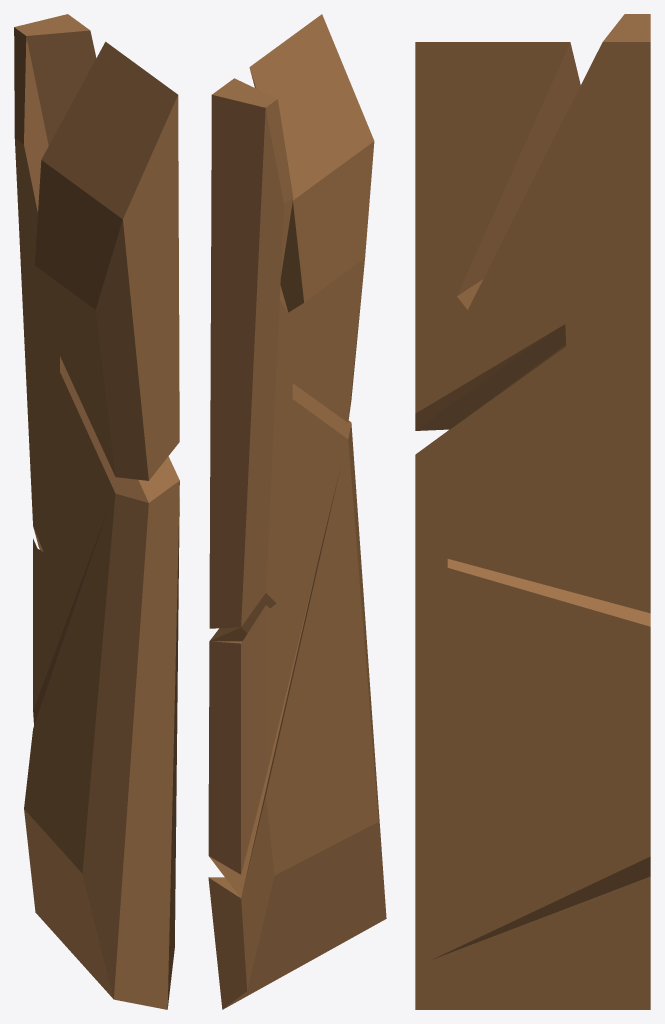
File: MadeiraLowPoly03.fbx
3 renders of one model, left to right at view 1: azimuth 30°, elevation 25°; view 2: azimuth 150°, elevation 25°; view 3: azimuth 270°, elevation 25°, orthographic. The views are drawn at different scales.
Parts seen in each view (by area): view 1: Cube; view 2: Cube; view 3: Cube.
Boxes of the visible parts, bbox=[...] form: Cube: bbox=[14, 14, 179, 1009]; Cube: bbox=[208, 14, 386, 1009]; Cube: bbox=[415, 14, 650, 1009].
Bounding box in the file's own units: 83.63 × 913 × 200.
